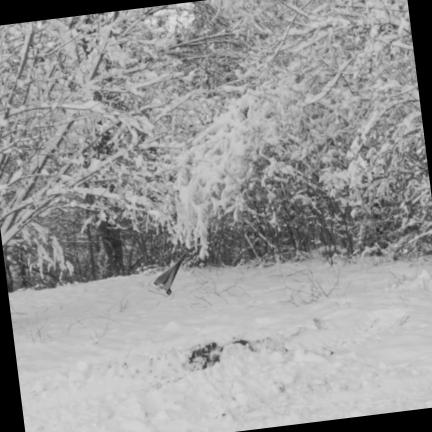Shahed: (154, 254, 186, 294)
